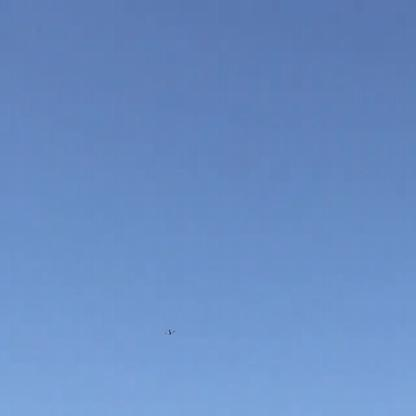CIV_Plane: (166, 328, 176, 336)
